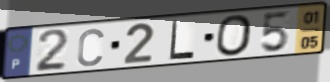2: (122, 21, 159, 67), (36, 28, 71, 74)
5: (258, 9, 293, 53)
C: (75, 27, 106, 69)
L: (167, 19, 197, 62)
O: (215, 13, 255, 58)
